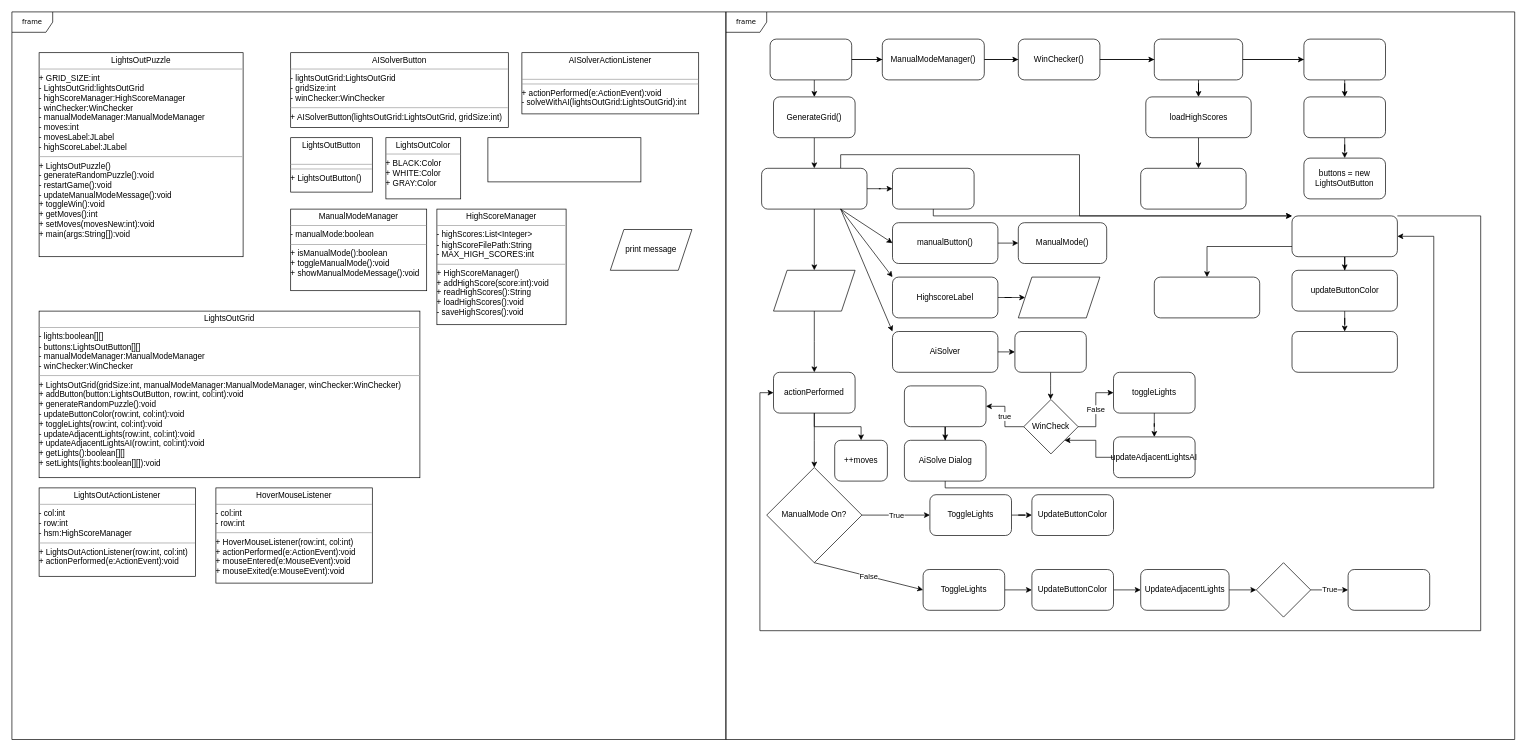
Some shapes in this 1527 by 751 pixel diagram are drawn without their labels. Here are the shapes that lost their labels. From the top down, the box of each, then its label:
(769, 38, 852, 80): LightsOutPuzzle()
(1154, 38, 1243, 80): HighScoreManager()
(1303, 38, 1386, 80): new LightsOutGrid()
(1303, 96, 1386, 138): setLights
(487, 137, 641, 182): WinChecker + checkWin(lights:boolean[][]):boolean
(761, 168, 867, 209): ControlPanel.setLayout()
(892, 168, 974, 209): RestartButton()
(1140, 168, 1246, 209): highScores.add()
(1291, 215, 1397, 257): GenerateRandomPuzzle
(773, 270, 855, 311): SetVisible(true)
(1018, 276, 1100, 318): readHighScore
(1154, 276, 1260, 318): SetMoves(0)
(1014, 331, 1086, 372): SolveWithAI
(1291, 331, 1397, 372): setBackground()
(904, 385, 986, 427): WinDialog
(1256, 562, 1311, 617): CheckWin
(1347, 569, 1430, 610): addHighScore
